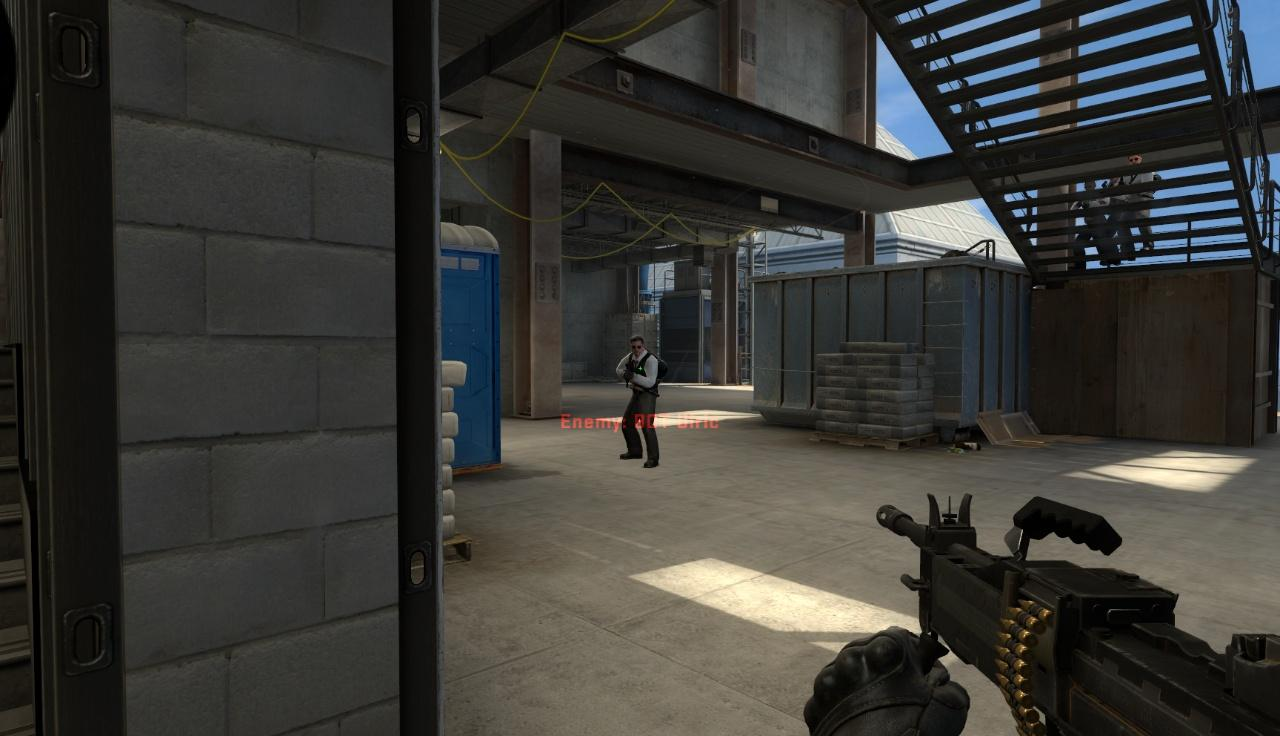rifle: (860, 486, 1280, 736)
tt: (621, 337, 660, 466), (1119, 152, 1155, 252), (1077, 178, 1106, 264)
tthead: (630, 338, 645, 357), (1128, 153, 1141, 168), (1084, 179, 1097, 192)
